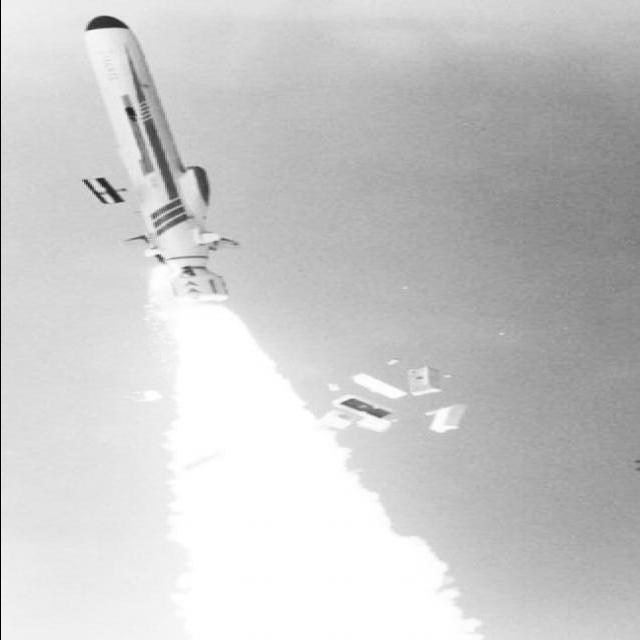missile: (67, 15, 225, 312)
